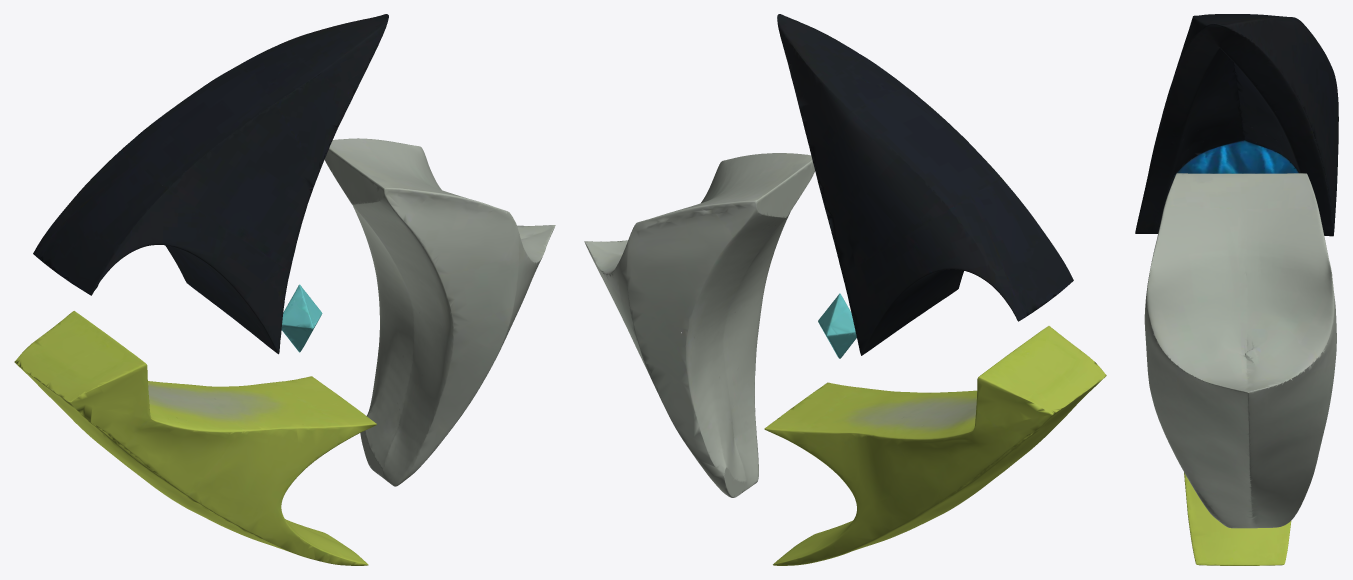
Rendered from intent-glyph.glb.
3 renders of one model, left to right at view 1: azimuth 30°, elevation 25°; view 2: azimuth 150°, elevation 25°; view 3: azimuth 270°, elevation 25°, orthographic. The views are drawn at different scales.
Parts seen in each view (by area): view 1: tripo_node_e1ad31b2-a108-4ca2-923b-91fc1dac8791; view 2: tripo_node_e1ad31b2-a108-4ca2-923b-91fc1dac8791; view 3: tripo_node_e1ad31b2-a108-4ca2-923b-91fc1dac8791.
Boxes of the visible parts, x1,y1,x2,y2 form: tripo_node_e1ad31b2-a108-4ca2-923b-91fc1dac8791: [14, 14, 555, 565]; tripo_node_e1ad31b2-a108-4ca2-923b-91fc1dac8791: [584, 14, 1106, 565]; tripo_node_e1ad31b2-a108-4ca2-923b-91fc1dac8791: [1135, 14, 1338, 565].
Size of the model in its own units: 0.9784 by 0.9794 by 0.3252.
1 material, 1 textured.
